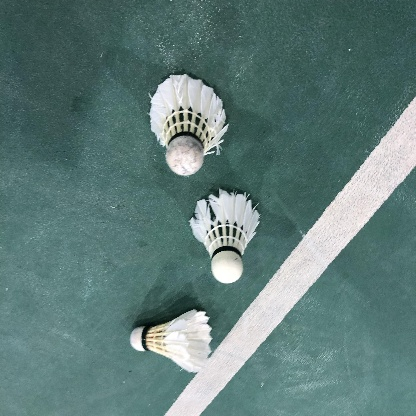ball_single: (149, 74, 229, 176), (189, 189, 260, 284), (130, 310, 212, 373)
